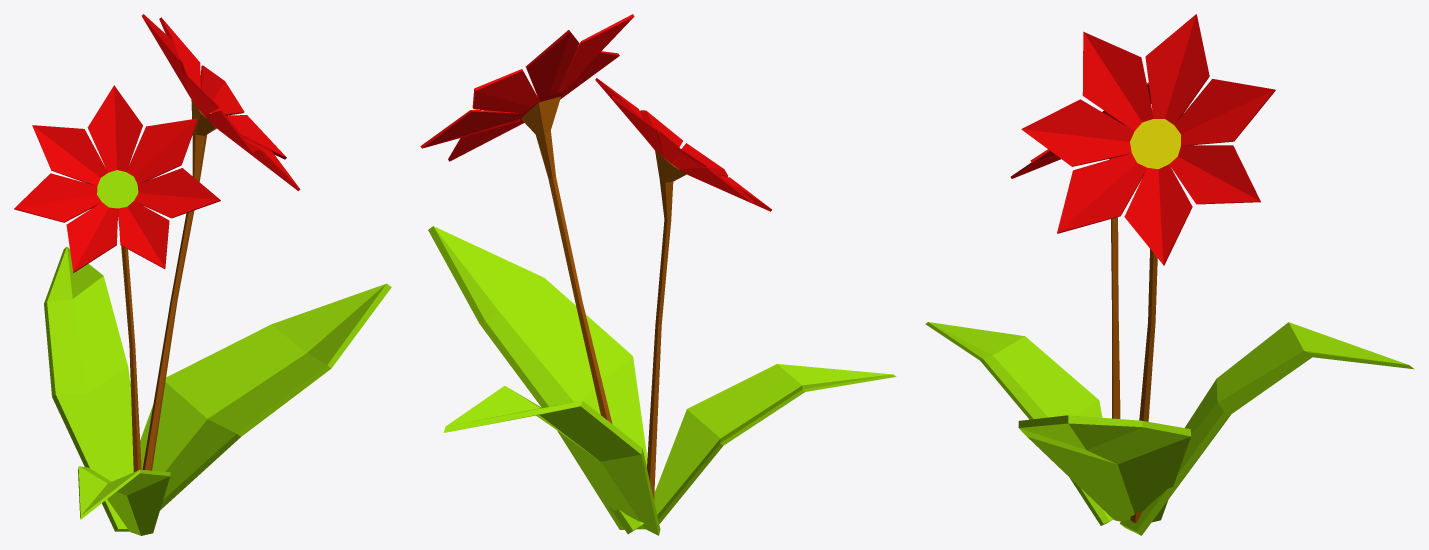
The model's file is Flower.fbx.
The picture shows the model from 3 angles, left to right: view 1: azimuth 30°, elevation 25°; view 2: azimuth 150°, elevation 25°; view 3: azimuth 270°, elevation 25°; orthographic projection. The views are drawn at different scales.
Visible parts, largest first — view 1: Flowers_01_LOD0; view 2: Flowers_01_LOD0; view 3: Flowers_01_LOD0.
Boxes of the visible parts, x1,y1,x2,y2 form: Flowers_01_LOD0: [14, 14, 391, 535]; Flowers_01_LOD0: [420, 14, 896, 535]; Flowers_01_LOD0: [925, 14, 1414, 535].
Size of the model in its own units: 0.3115 by 0.3173 by 0.3828.
